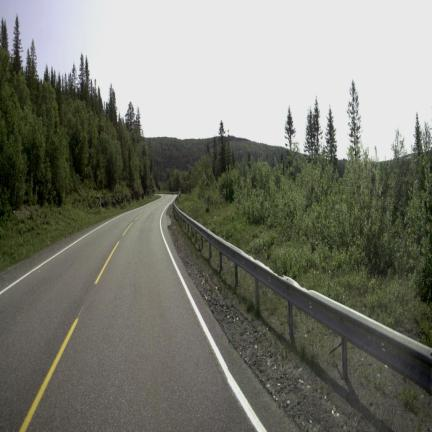Road: (0, 196, 291, 430)
